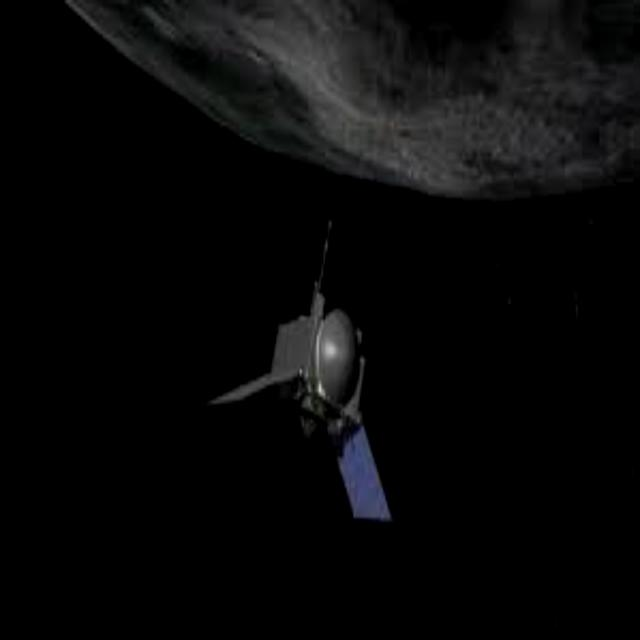satellite: (203, 228, 412, 540)
